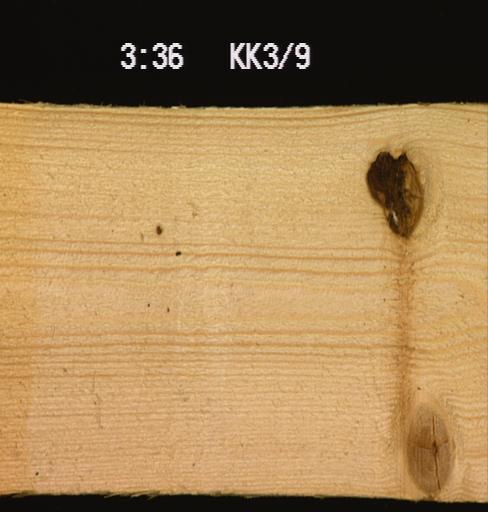edge_knot: (402, 406, 454, 495)
small_knot: (153, 222, 163, 235)
